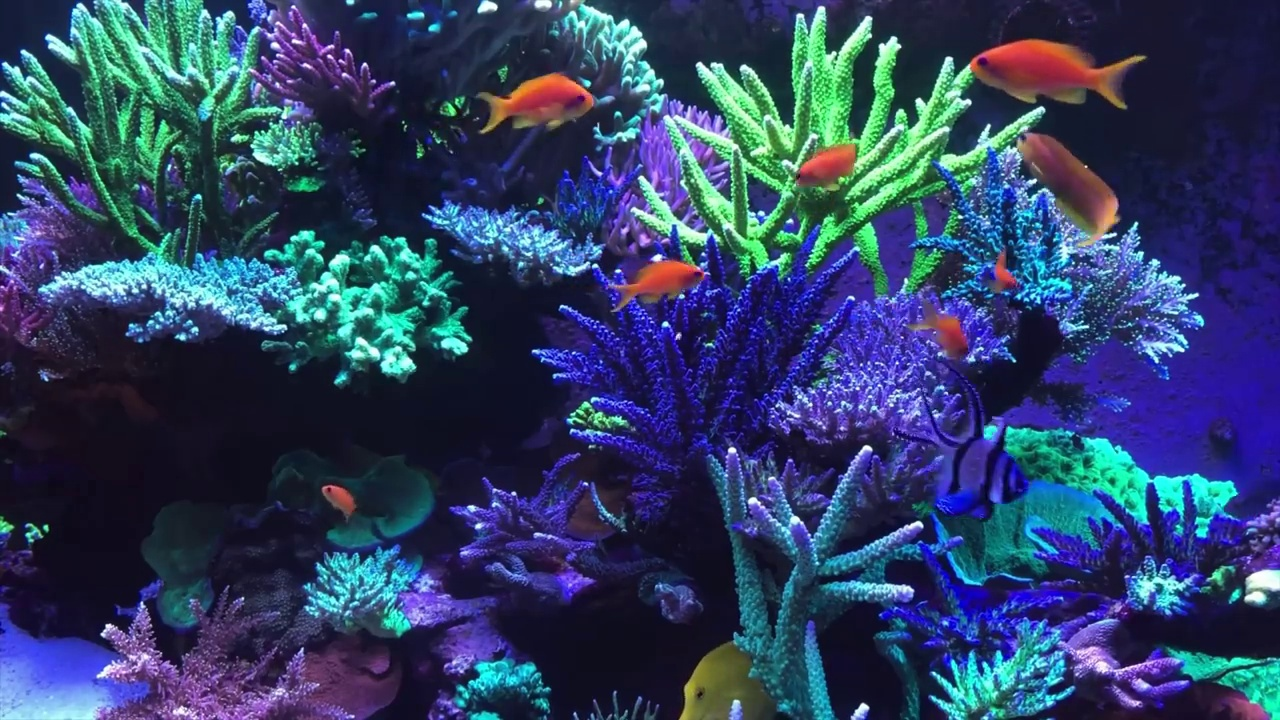fish: (969, 35, 1147, 112), (1016, 133, 1118, 246), (678, 639, 784, 720), (472, 70, 601, 133), (610, 260, 708, 310), (908, 301, 972, 362), (793, 142, 863, 191), (320, 482, 357, 524), (989, 251, 1020, 293)
